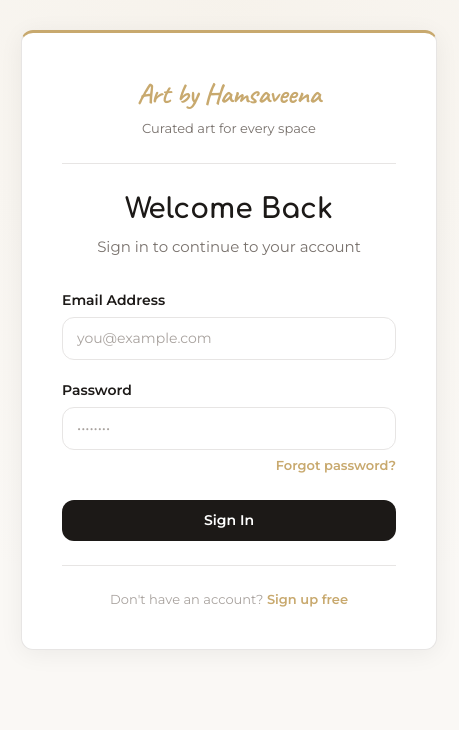
Scenario: LoginForm › shows auth error message when sign in fails
The image size is (459, 730).
Type "bad@example.com" into the field labelled "Email Address" at (229, 338), box [62,317,396,360]
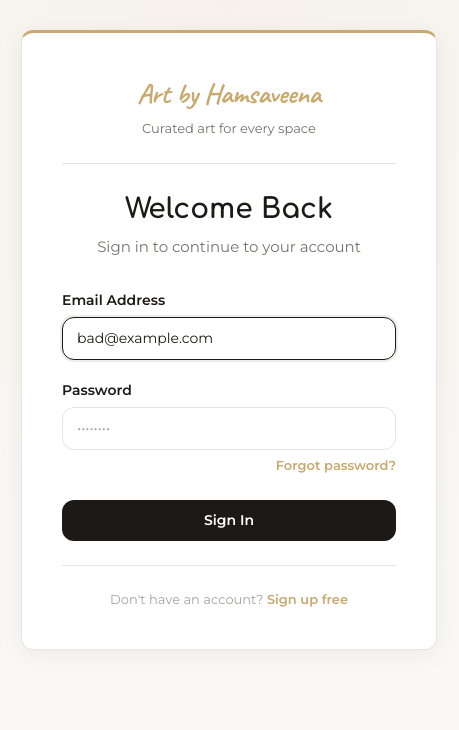
Type "wrongpass" into the password field labelled "Password" at (229, 428), box [62,407,396,450]
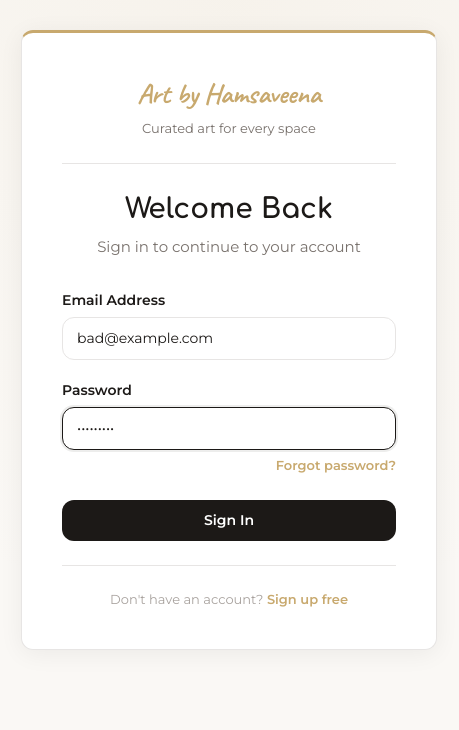
Click the button "Sign In" at (229, 520), box [62,500,396,540]
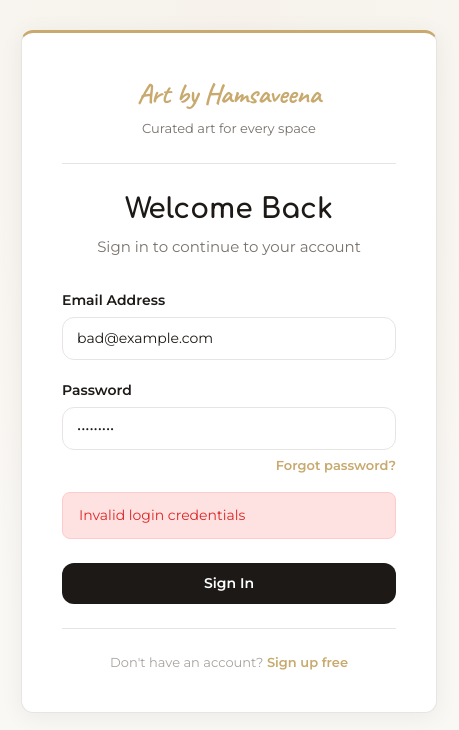
Now the message reads "Invalid login credentials", box [79,506,245,524]
